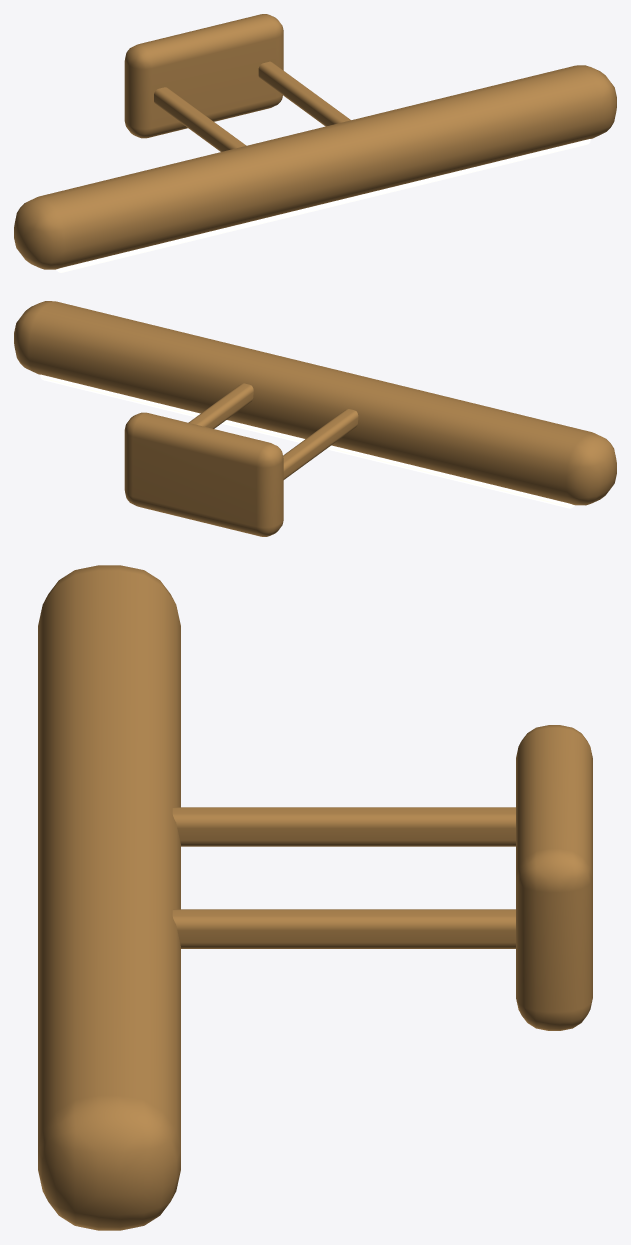
File: GalleryHalogen.glb
3 views of the same model, one above another, from view 1: azimuth 30°, elevation 25°; view 2: azimuth 150°, elevation 25°; view 3: azimuth 270°, elevation 25° (orthographic). The views are drawn at different scales.
Visible parts, largest first — view 1: Brushed brass picture light, Wall rose, Warm glass aperture, Cantilever arm.001, Cantilever arm; view 2: Brushed brass picture light, Wall rose, Warm glass aperture, Cantilever arm, Cantilever arm.001; view 3: Brushed brass picture light, Wall rose, Cantilever arm.001, Cantilever arm.
Boxes of the visible parts, left/top/right/bottom form: Brushed brass picture light: left=14, top=65, right=616, bottom=269; Wall rose: left=124, top=14, right=283, bottom=138; Warm glass aperture: left=55, top=139, right=590, bottom=272; Cantilever arm.001: left=258, top=61, right=350, bottom=126; Cantilever arm: left=154, top=87, right=246, bottom=151; Brushed brass picture light: left=14, top=301, right=616, bottom=505; Wall rose: left=124, top=412, right=283, bottom=536; Warm glass aperture: left=40, top=374, right=575, bottom=508; Cantilever arm: left=283, top=409, right=358, bottom=479; Cantilever arm.001: left=188, top=383, right=253, bottom=428; Brushed brass picture light: left=38, top=565, right=180, bottom=1230; Wall rose: left=516, top=725, right=592, bottom=1030; Cantilever arm.001: left=172, top=909, right=515, bottom=948; Cantilever arm: left=172, top=807, right=515, bottom=846.
Size of the model in its own units: 1.24 by 0.18 by 0.505.
